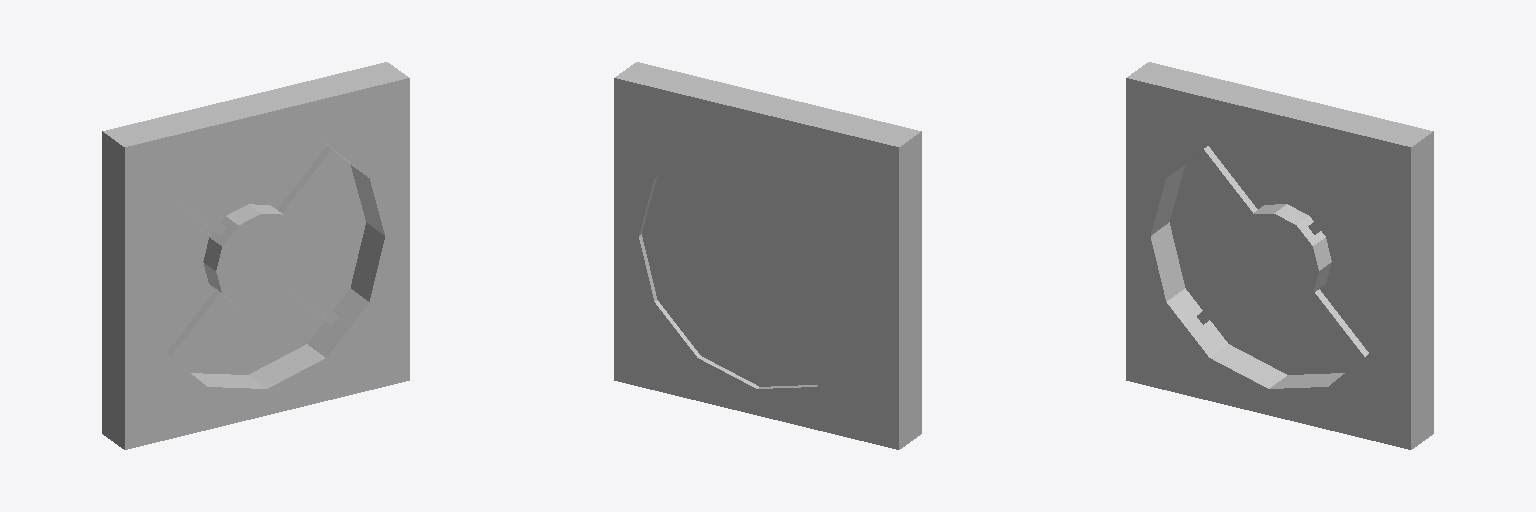
Rendered from Vent_B.obj.
3 views of the same model, side by side, from view 1: azimuth 30°, elevation 25°; view 2: azimuth 150°, elevation 25°; view 3: azimuth 330°, elevation 25° (orthographic).
Parts seen in each view (by area): view 1: Ventilation_2; view 2: Ventilation_2; view 3: Ventilation_2.
Boxes of the visible parts, <box> form: Ventilation_2: <box>102,62,409,449</box>; Ventilation_2: <box>614,62,921,449</box>; Ventilation_2: <box>1126,62,1433,449</box>.
Bounding box in the file's own units: 1.63 × 1.65 × 0.2188.